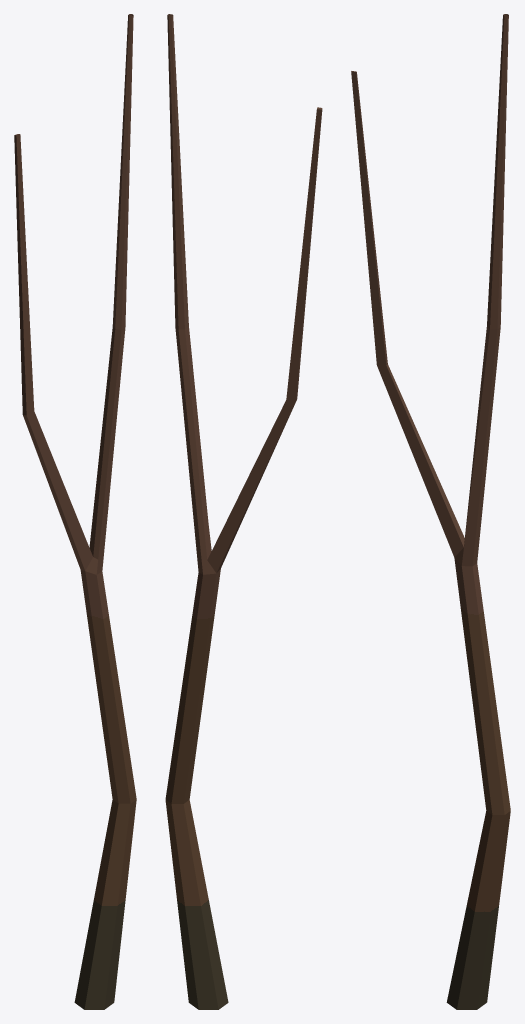
Rendered from Sapling.fbx.
3 views of the same model, side by side, from view 1: azimuth 30°, elevation 25°; view 2: azimuth 150°, elevation 25°; view 3: azimuth 330°, elevation 25° (orthographic).
Visible parts, largest first — view 1: Sapling; view 2: Sapling; view 3: Sapling.
Boxes of the visible parts, x1=… form: Sapling: x1=14, y1=14, x2=136, y2=1009; Sapling: x1=165, y1=14, x2=322, y2=1009; Sapling: x1=351, y1=14, x2=510, y2=1009.
Size of the model in its own units: 0.6052 by 4.15 by 0.2133.
